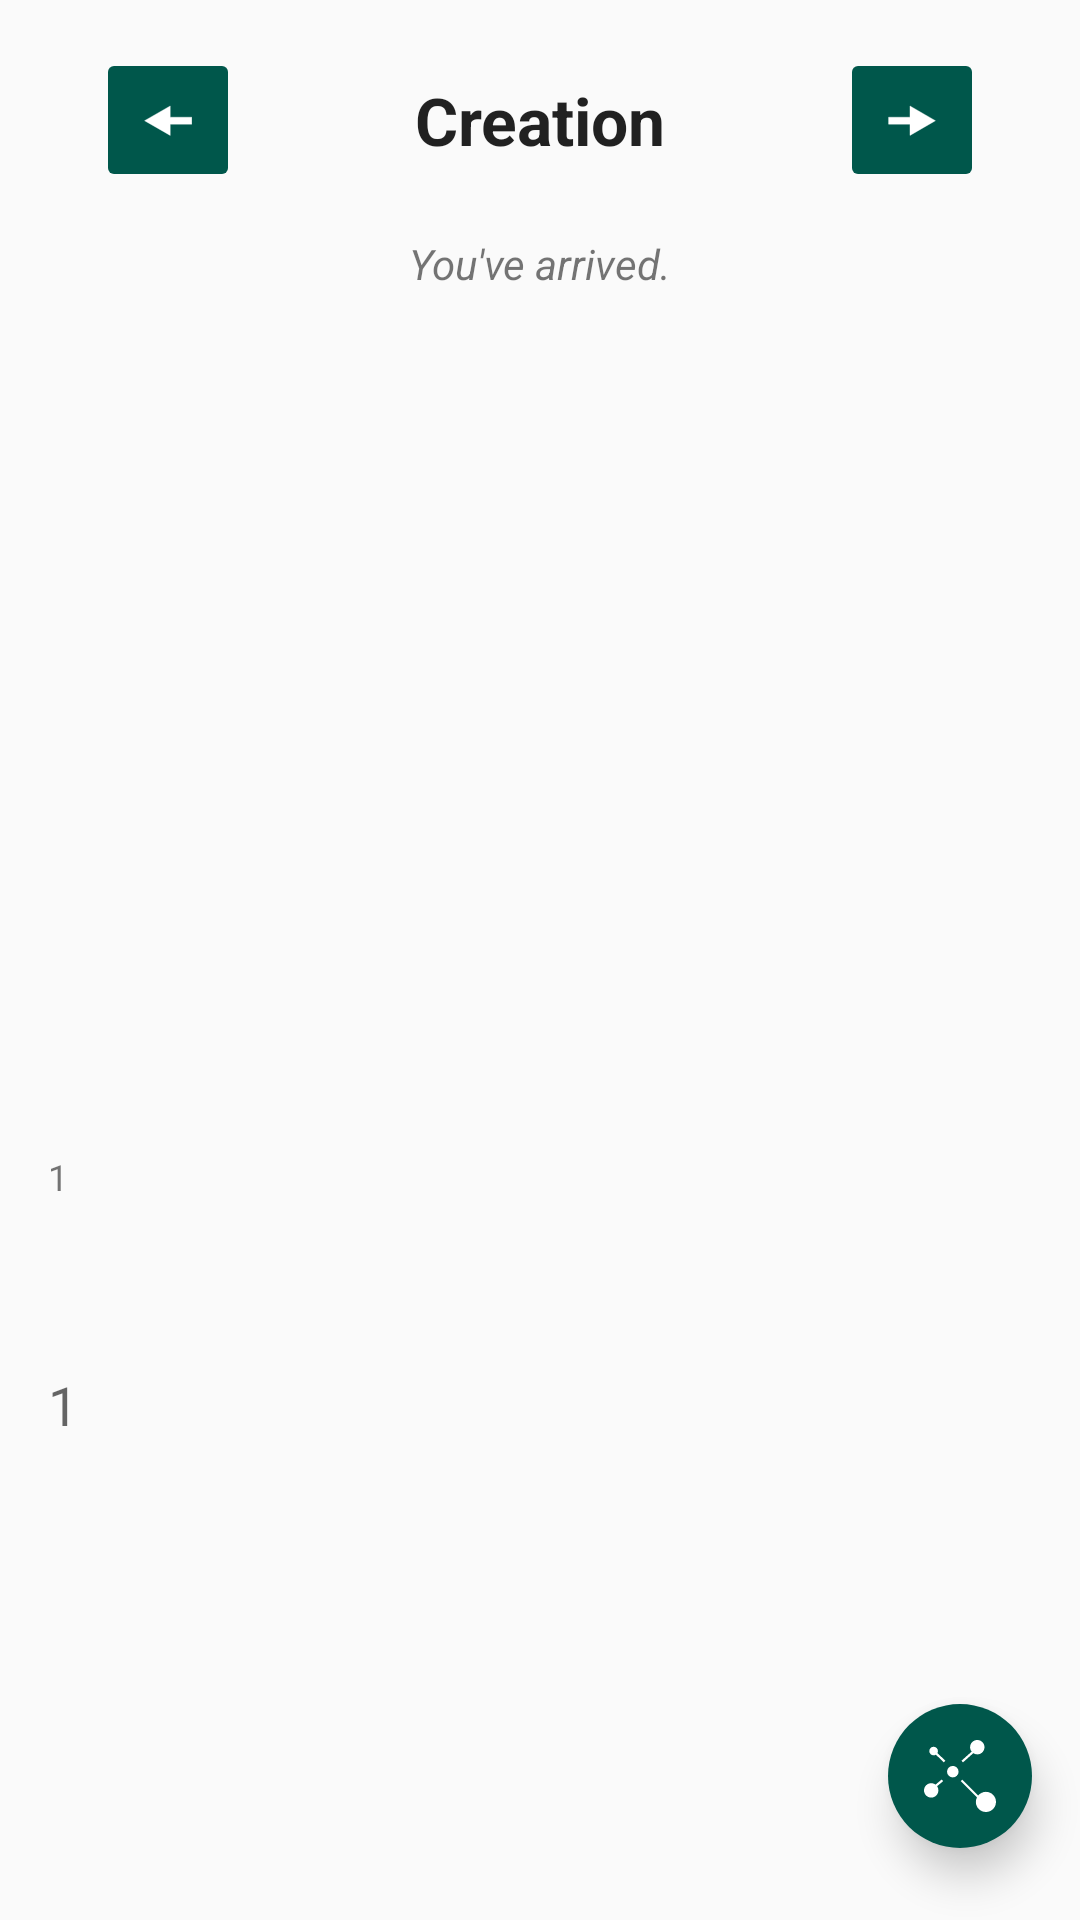

Screen size 1080px×1920px. Icon name, then its box in pixels as region(x1, y1, x2, y2):
left arrow: region(108, 66, 228, 174)
right arrow: region(852, 66, 972, 174)
